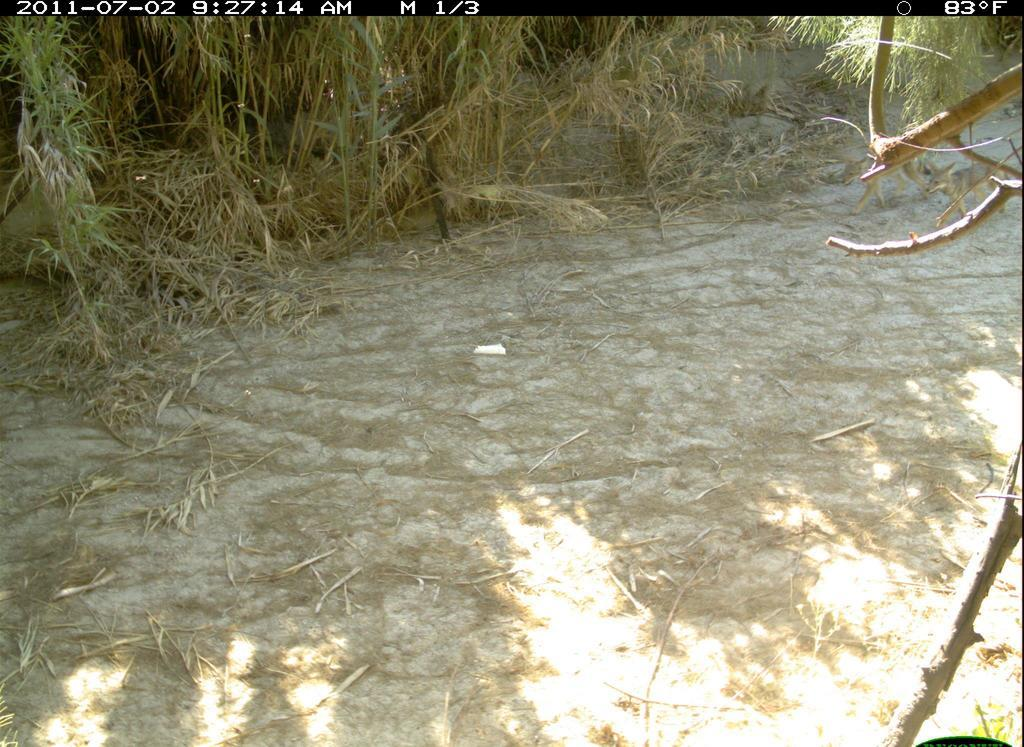coyote: (923, 149, 1012, 223)
